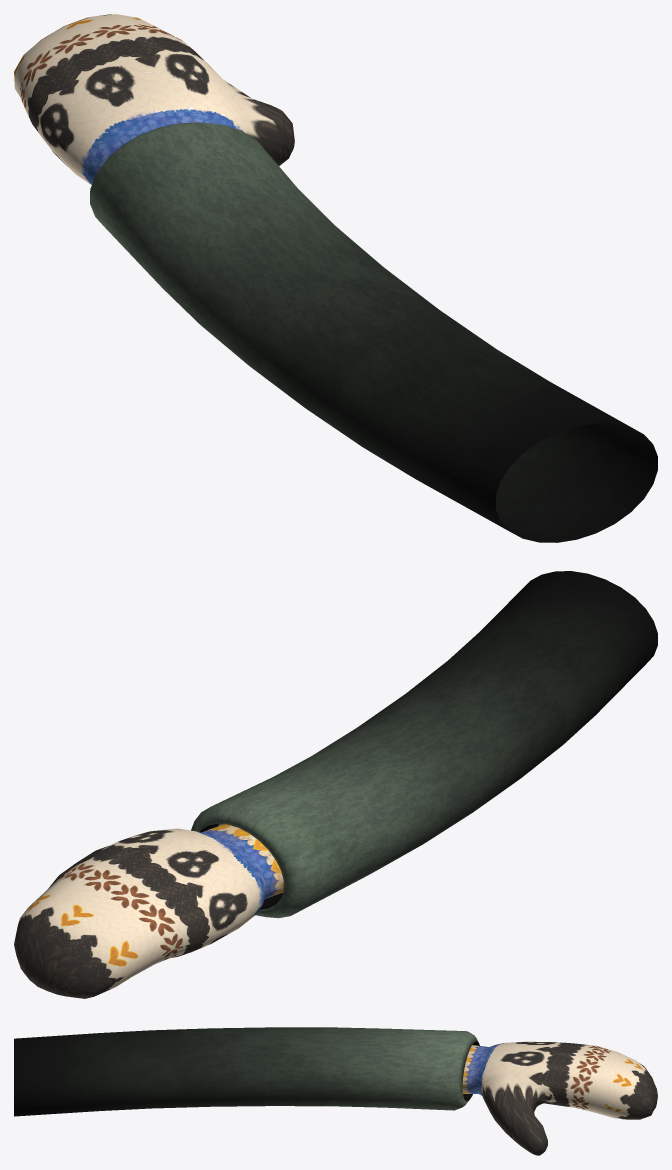
The model's file is hand.glb.
The picture shows the model from 3 angles, top to bottom: view 1: azimuth 30°, elevation 25°; view 2: azimuth 150°, elevation 25°; view 3: azimuth 270°, elevation 25°; orthographic projection. The views are drawn at different scales.
Parts seen in each view (by area): view 1: Cylinder; view 2: Cylinder; view 3: Cylinder.
Boxes of the visible parts, x1,y1,x2,y2 form: Cylinder: [14, 14, 657, 542]; Cylinder: [14, 571, 657, 998]; Cylinder: [14, 1027, 657, 1155].
Bounding box in the file's own units: 1.04 × 0.4497 × 3.56.
Materials: 1 (1 with a texture image).
